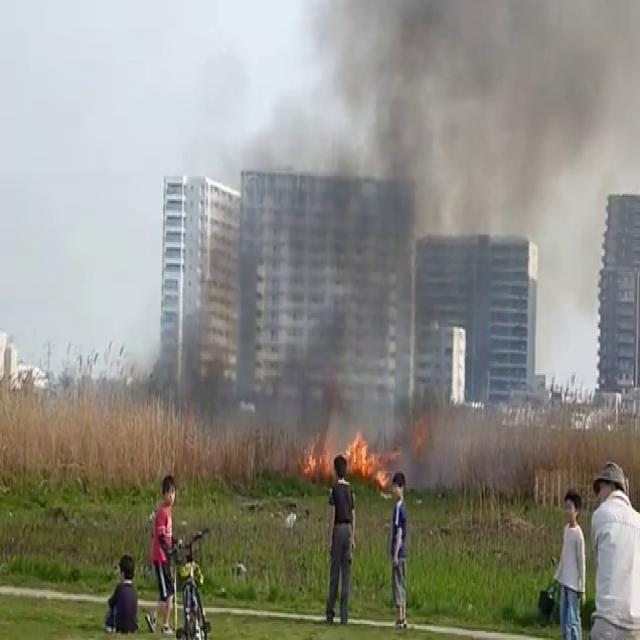Fire: (300, 421, 395, 486)
Smoke: (226, 0, 640, 443)
